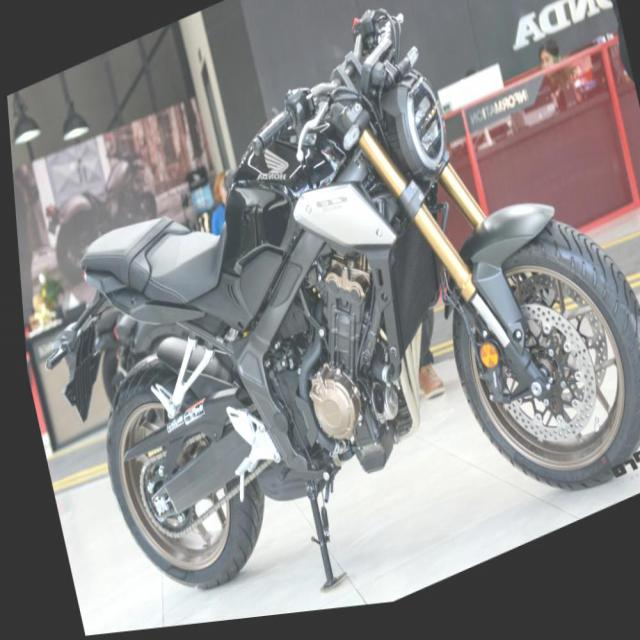CB650R: (30, 0, 639, 637)
